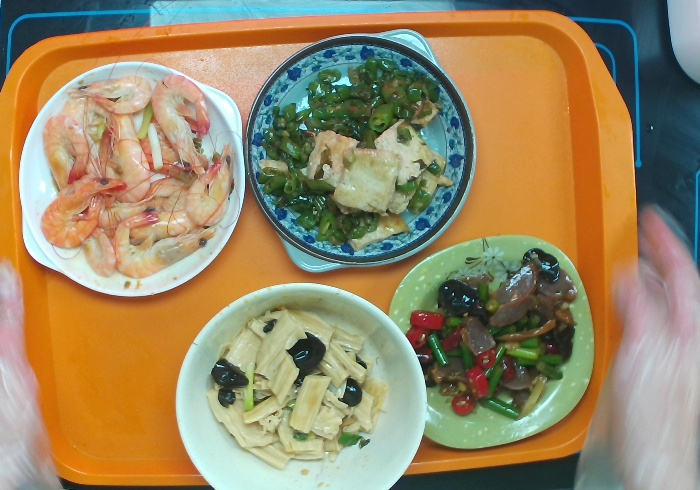NLDX-Bai_Se_Shuang_Er_Die: (14, 60, 245, 300)
NLDX-Bai_Se_Yuan_Wan: (170, 277, 426, 490)
NLDX-Lv_Hua_Fang_Die: (384, 230, 600, 453)
NLDX-Qing_Hua_Shuang_Er_Die: (241, 26, 476, 276)
